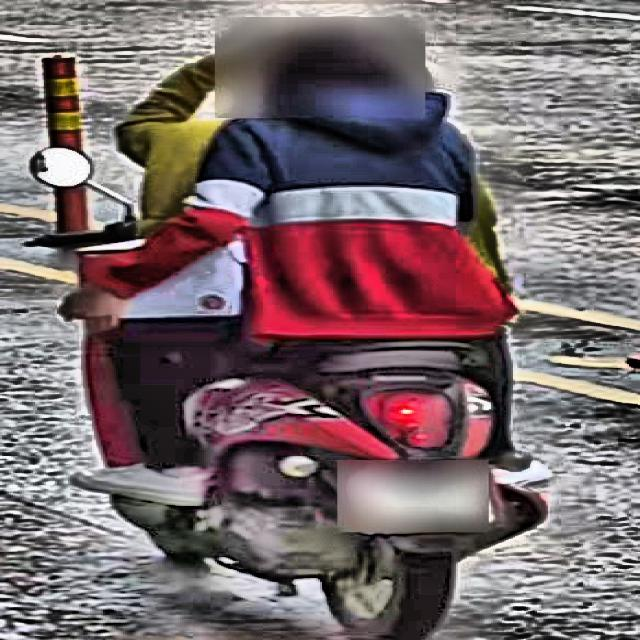motorcycle: (22, 126, 640, 640)
